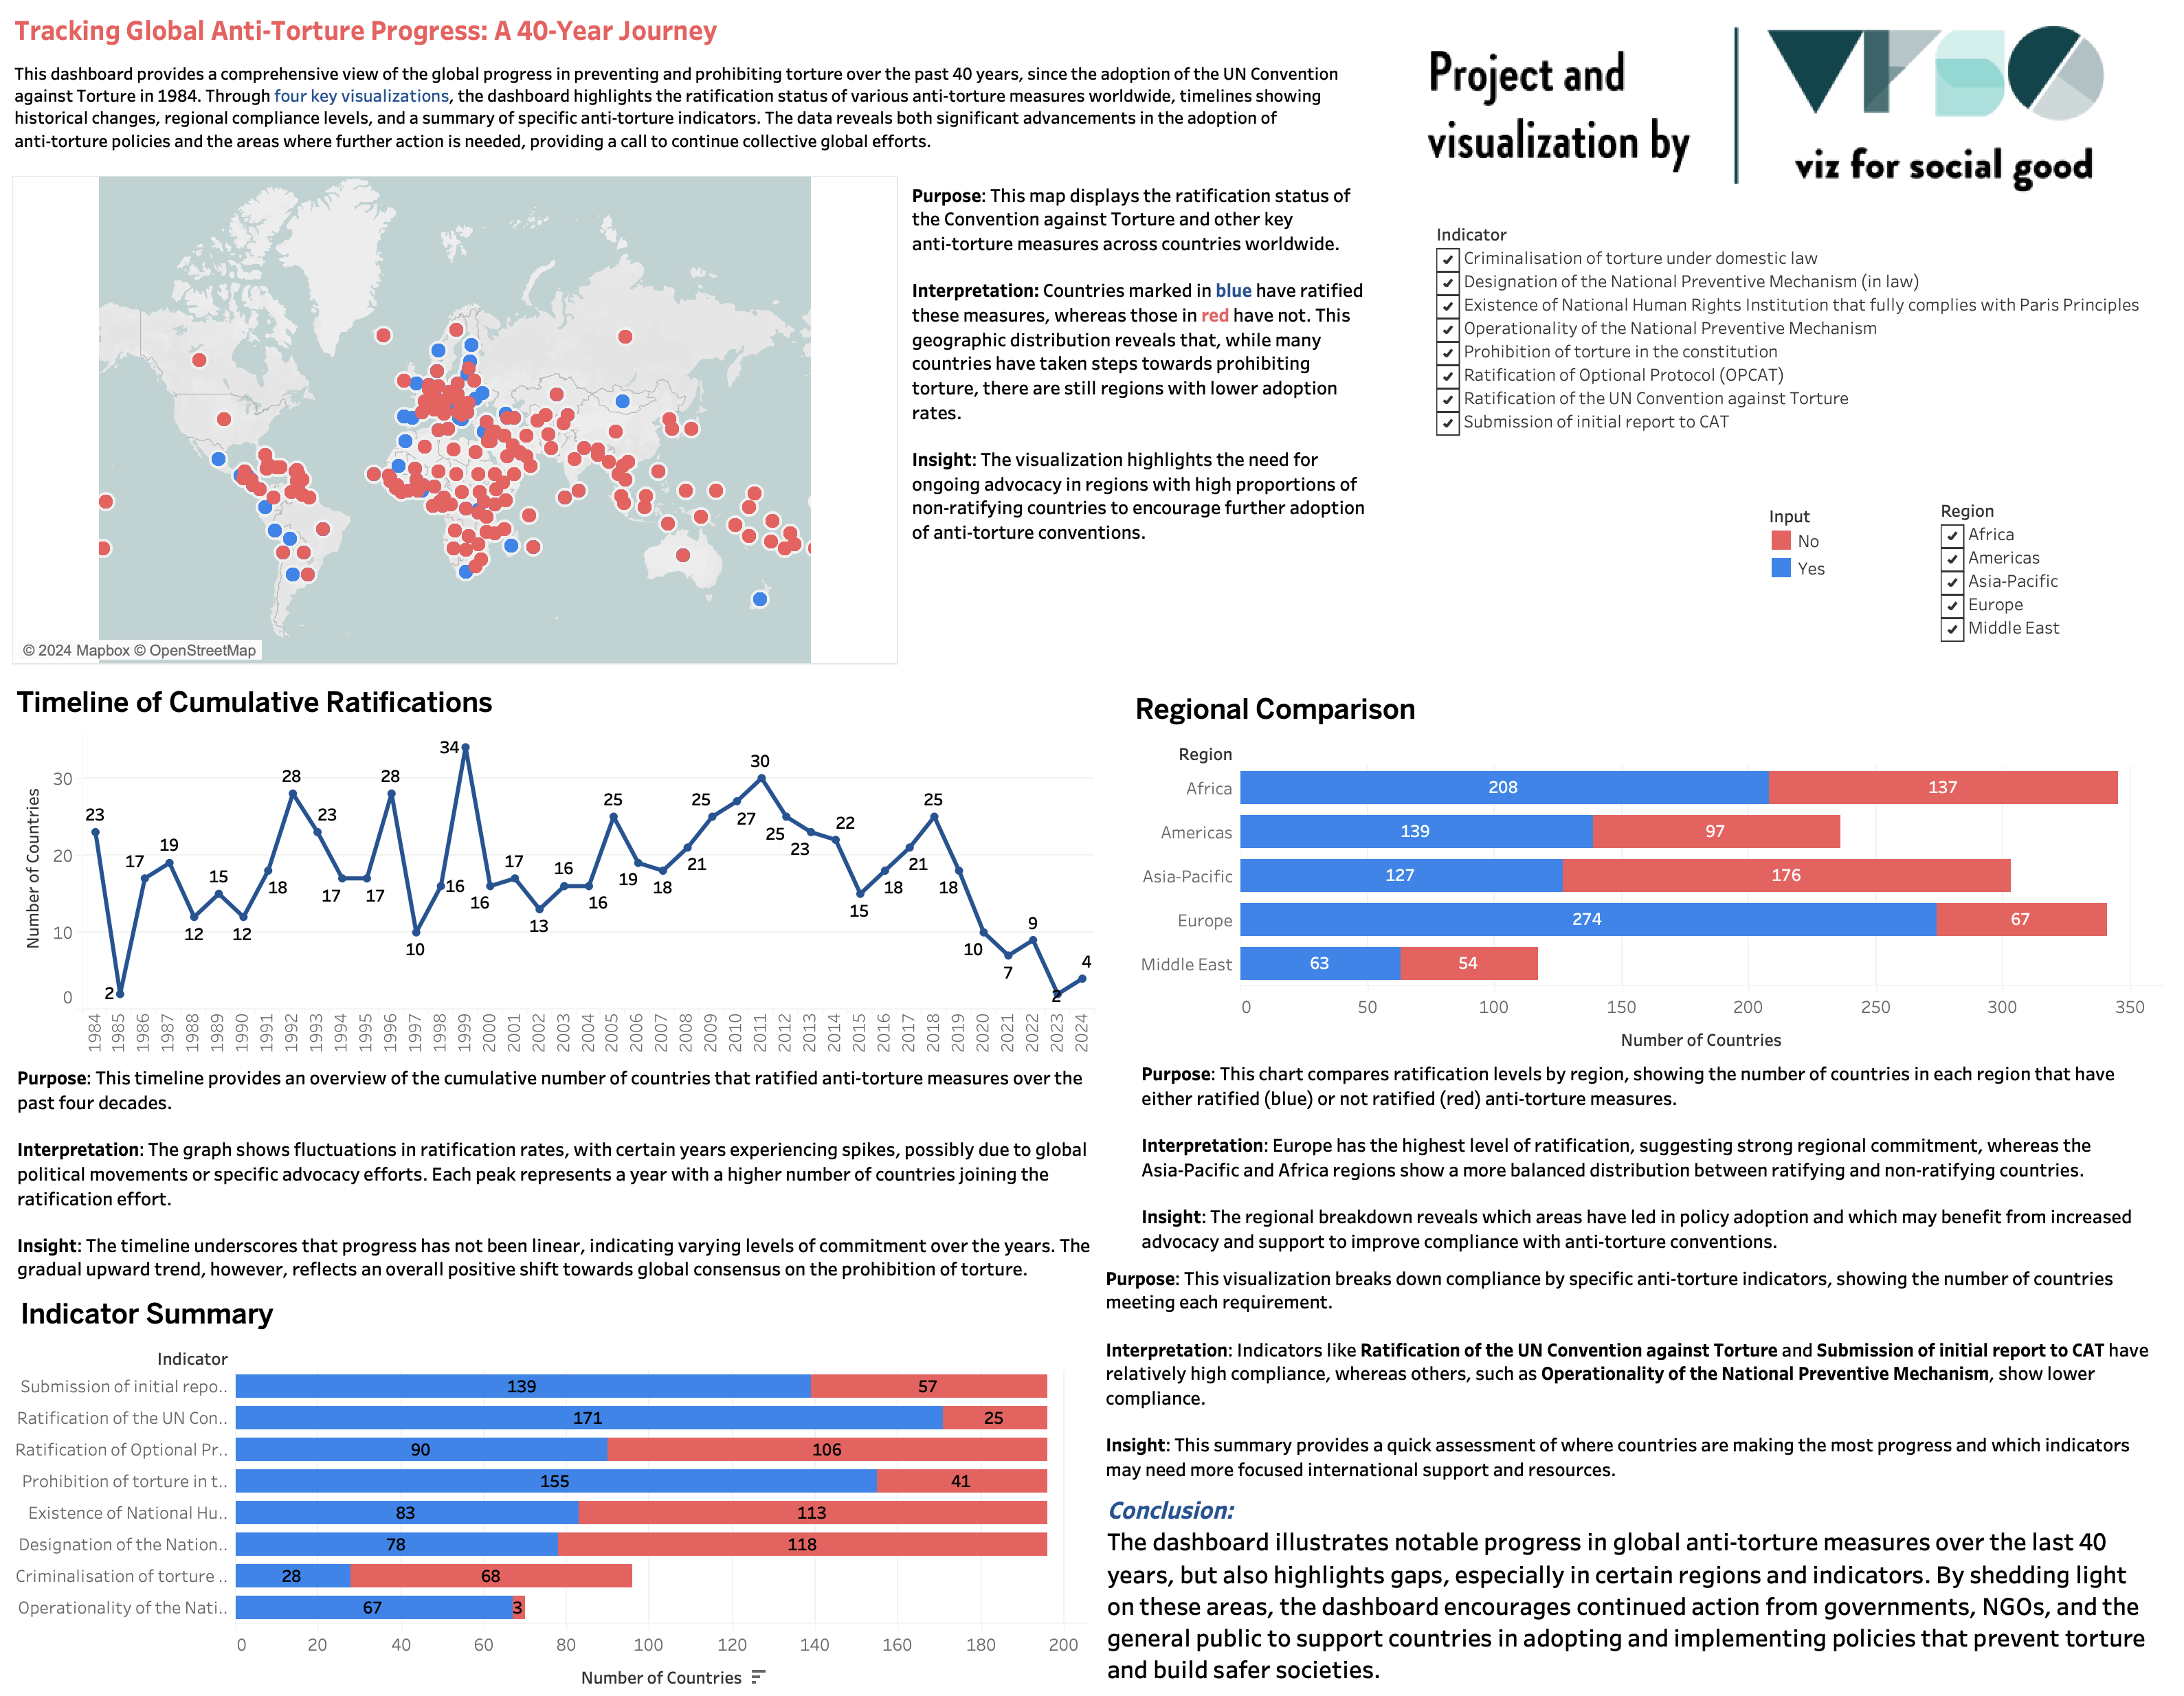

What the dashboard file says about the page in this screenshot:
{"tool":"tableau","page":{"name":"Dashboard 1","canvas":[1589,1234],"ordinal":0},"visuals":[{"type":"image","param":"/Users/dubeaditya/Desktop/2024 APT/VFSG Logos/VFSG Logo to include on viz - ligh","box":[1014,2,571,149]},{"type":"text","box":[8,11.4,517,20.2]},{"type":"text","box":[8,42,976,73]},{"type":"worksheet","title":"Global Map of Ratification Status","mark":"Automatic","box":[9,128,645,356]},{"type":"text","box":[661,129,338,275]},{"type":"filter","title":"Global Map of Ratification Status","param":"[federated.1kayfgx1wz3shd1chmmsa0778k1p].[none:Indicator:nk]","box":[1045,161,528,199]},{"type":"filter","title":"Global Map of Ratification Status","param":"[federated.1kayfgx1wz3shd1chmmsa0778k1p].[none:Region:nk]","box":[1412,362,160,139]},{"type":"legend","title":"Global Map of Ratification Status","param":"[federated.1kayfgx1wz3shd1chmmsa0778k1p].[none:Input:nk]","box":[1286,365,115,60]},{"type":"worksheet","title":"Timeline  of Cumulative Ratifications","mark":"Line","rows":["Country"],"cols":["Date"],"box":[8,493,788,274]},{"type":"worksheet","title":"Regional Comparison","mark":"Automatic","rows":["Region"],"cols":["Country"],"box":[822,498,752,274]},{"type":"text","box":[828,766,748,154]},{"type":"text","box":[10,771,800,168]},{"type":"blank","box":[877,902,9,327]},{"type":"text","box":[802,916,771,169]},{"type":"worksheet","title":" Indicator Summary Dashboard","mark":"Automatic","rows":["Indicator"],"cols":["Country"],"box":[11,938,781,298]},{"type":"text","box":[803,1081,765,155]}]}

Visuals, with their boxes in screenshot pixels (x1, y1, x2, y2), scaled from the page's 1589x1234 canvas onto the 2184x1696 screenshot:
image: rect(1394, 3, 2179, 208)
text: rect(11, 16, 722, 43)
text: rect(11, 58, 1352, 158)
"Global Map of Ratification Status" worksheet: rect(12, 176, 899, 665)
text: rect(909, 177, 1373, 555)
"Global Map of Ratification Status" filter: rect(1436, 221, 2162, 495)
"Global Map of Ratification Status" filter: rect(1941, 498, 2161, 689)
"Global Map of Ratification Status" legend: rect(1768, 502, 1926, 584)
"Timeline  of Cumulative Ratifications" worksheet (Line marks): rect(11, 678, 1094, 1054)
"Regional Comparison" worksheet: rect(1130, 684, 2163, 1061)
text: rect(1138, 1053, 2166, 1264)
text: rect(14, 1060, 1113, 1291)
blank: rect(1205, 1240, 1218, 1689)
text: rect(1102, 1259, 2162, 1491)
" Indicator Summary Dashboard" worksheet: rect(15, 1289, 1089, 1695)
text: rect(1104, 1486, 2155, 1695)
